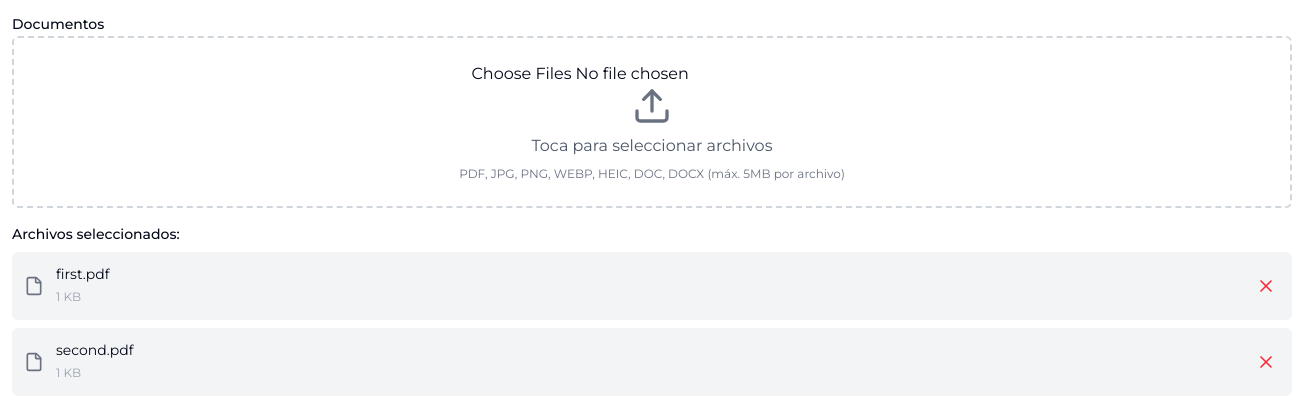
Test: FileUpload Component › Multiple File Handling › allows removing individual files
Expected: the text "first.pdf" is shown, [56,265,110,283]
Expected: the text "second.pdf" is shown, [56,341,134,359]
Click the button named "Eliminar archivo first.pdf" at (1266, 286), box [1252,272,1280,300]
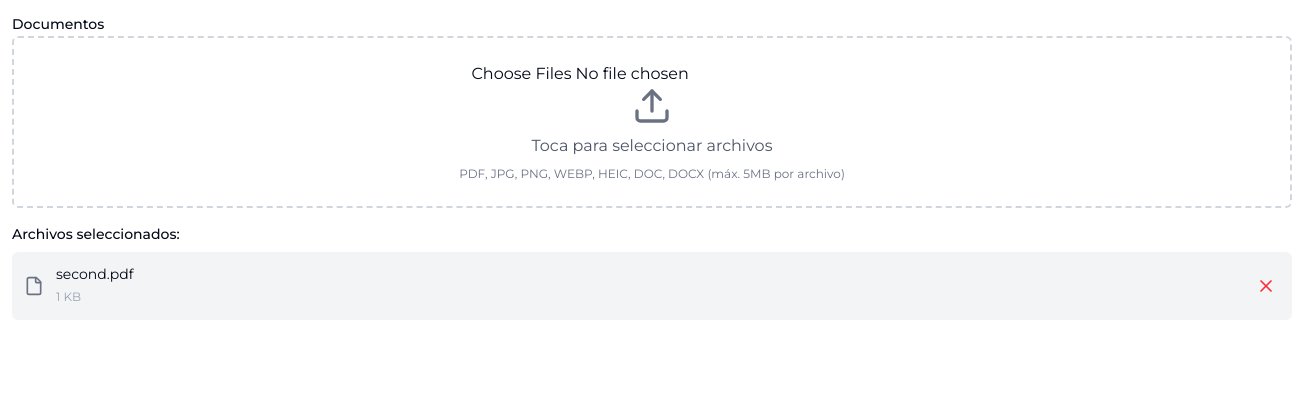
Expected: the text "first.pdf" is gone
Expected: the text "second.pdf" is shown, [56,265,134,283]
